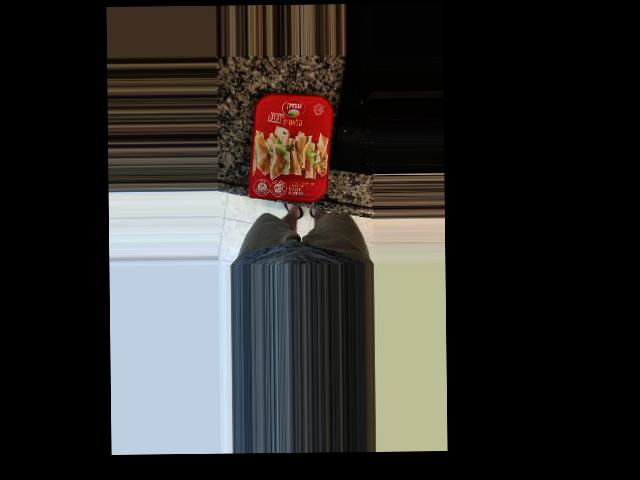cheese: (257, 114, 346, 225)
